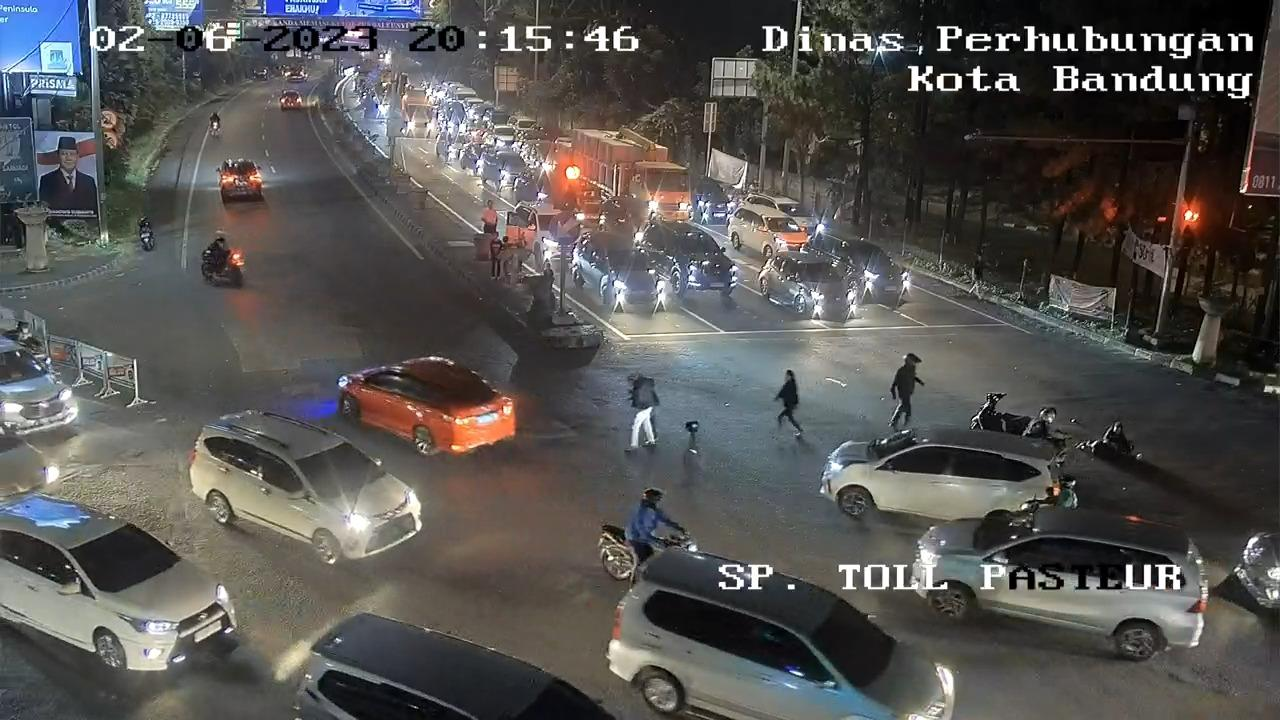accident: (1073, 421, 1144, 460)
